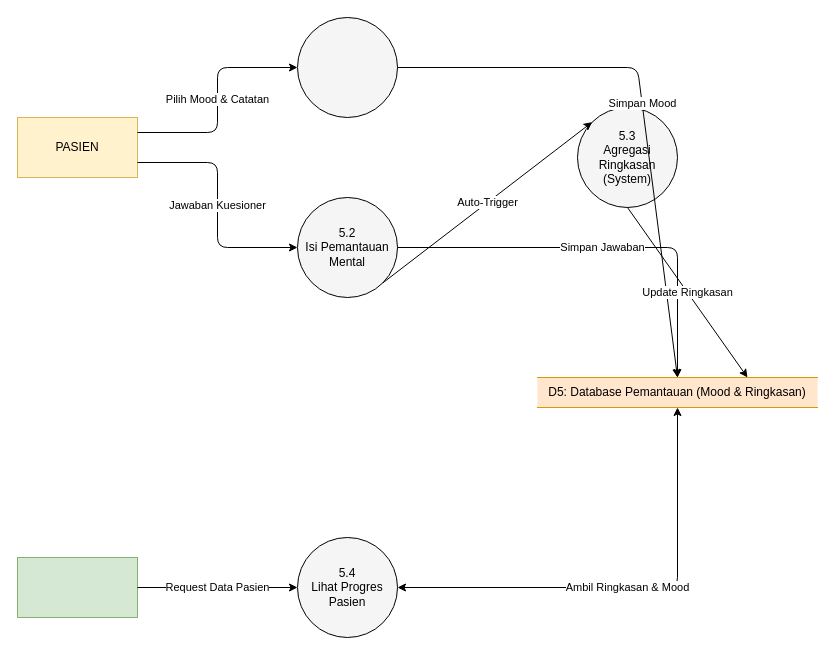
Image size: 835x655. Some labels were removed from this diagram. The shapes that lost their labels are listed below. From the top down, each one's box as (x1, y1, x2, y2) in pixels, then its label:
(296, 16, 398, 118): 5.1 Catat Mood Harian
(16, 556, 138, 618): PSIKOLOG
